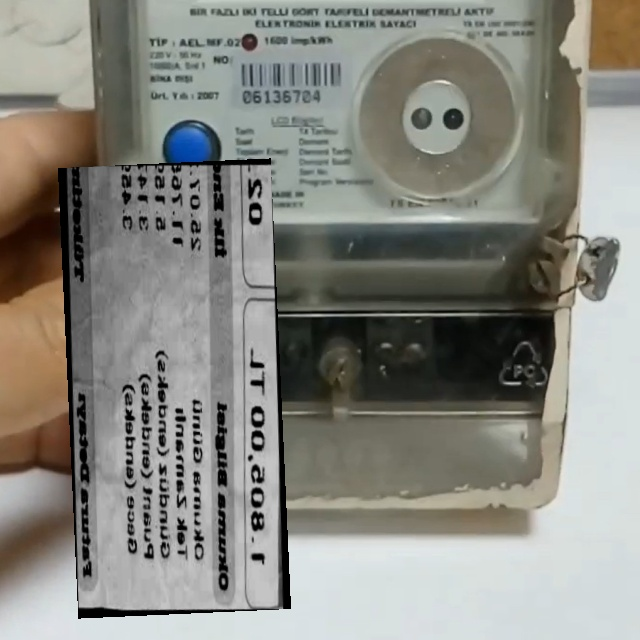electricity-bill: (57, 157, 291, 619)
